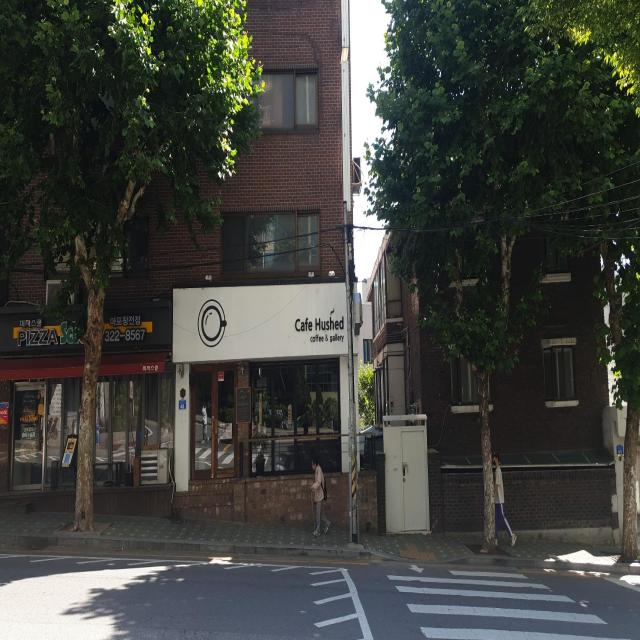횡단보도: (386, 562, 632, 640)
